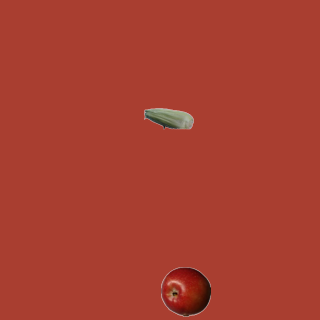Apple Braeburn: (160, 266, 210, 316)
Corn Husk: (143, 93, 193, 143)
